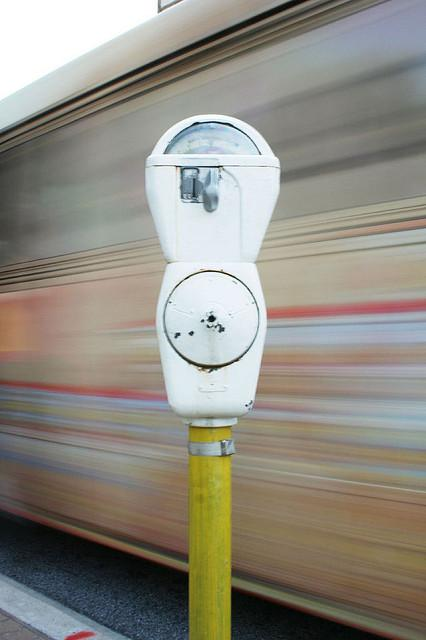Train: (2, 0, 426, 640)
